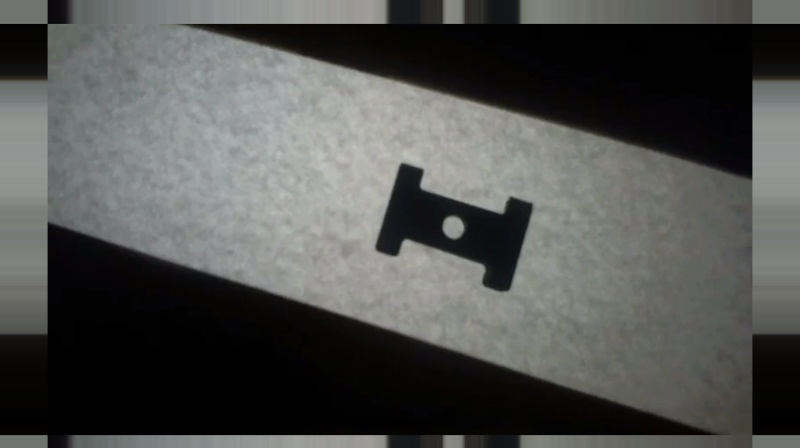O002: (369, 160, 533, 294)
